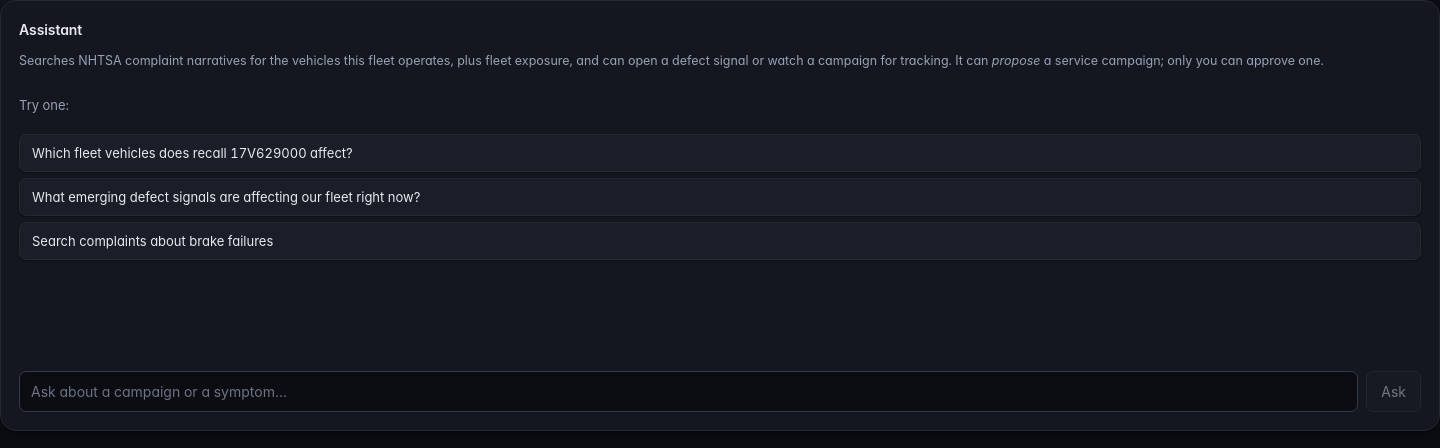
Scenario: Assistant › sends a chip's text immediately when clicked, and renders the reply
Click the button "Search complaints about brake failures".
click(153, 241)  # box [19,222,1421,260]
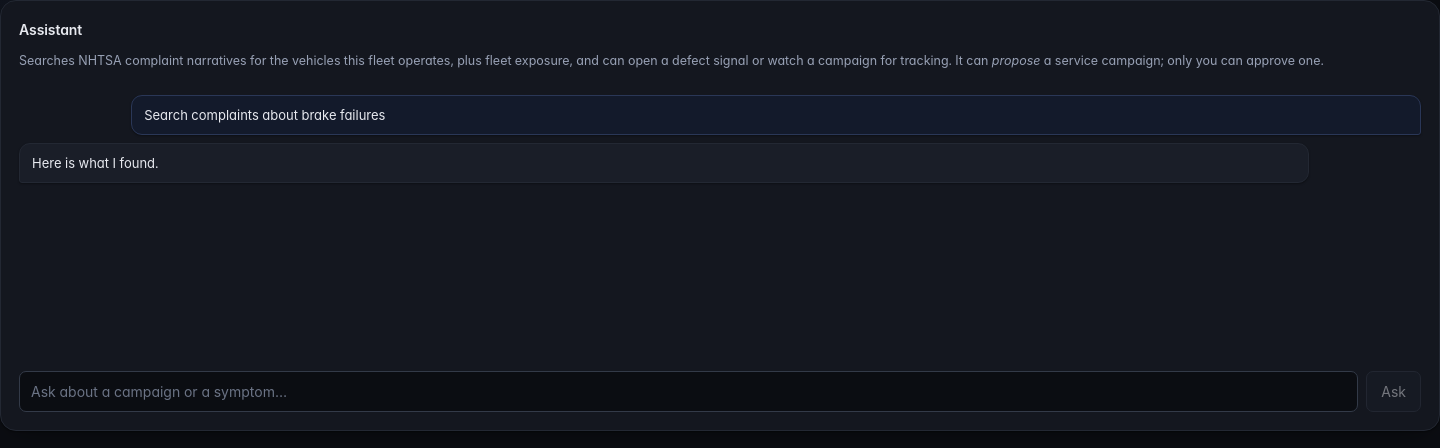
Now the text "Here is what I found." is shown, box [32,155,158,171]
